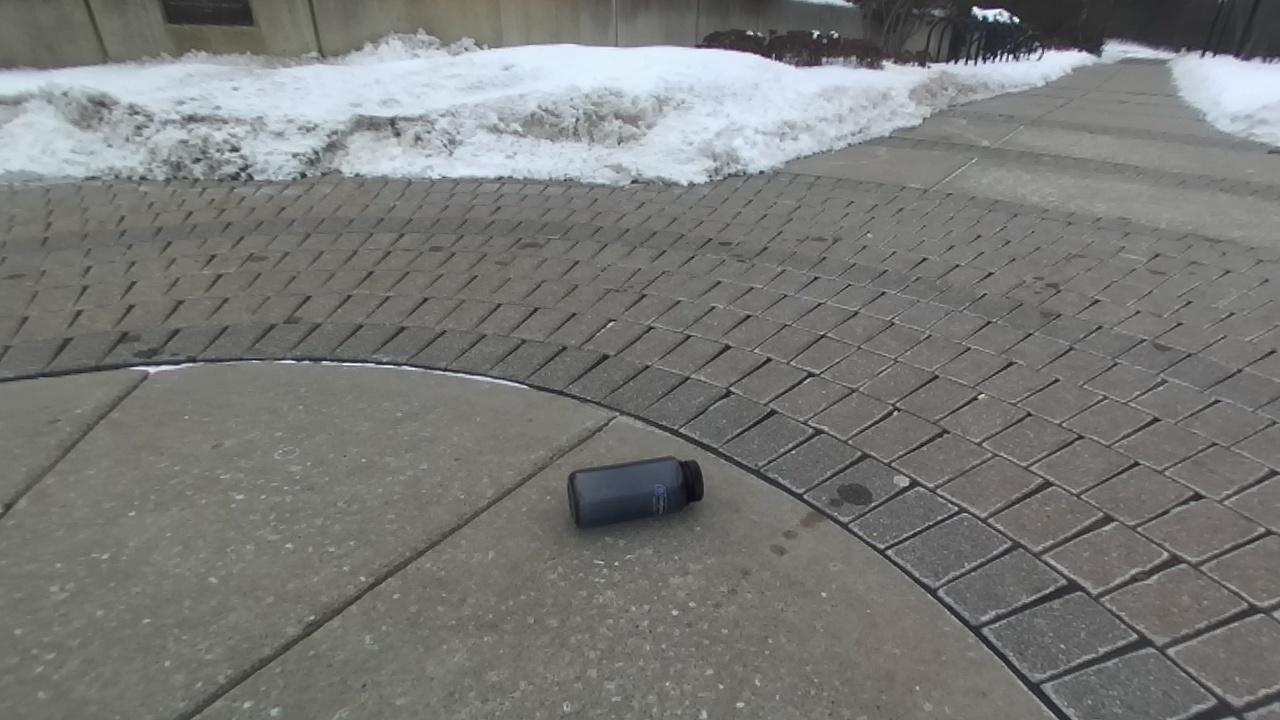bottle: (569, 456, 703, 527)
